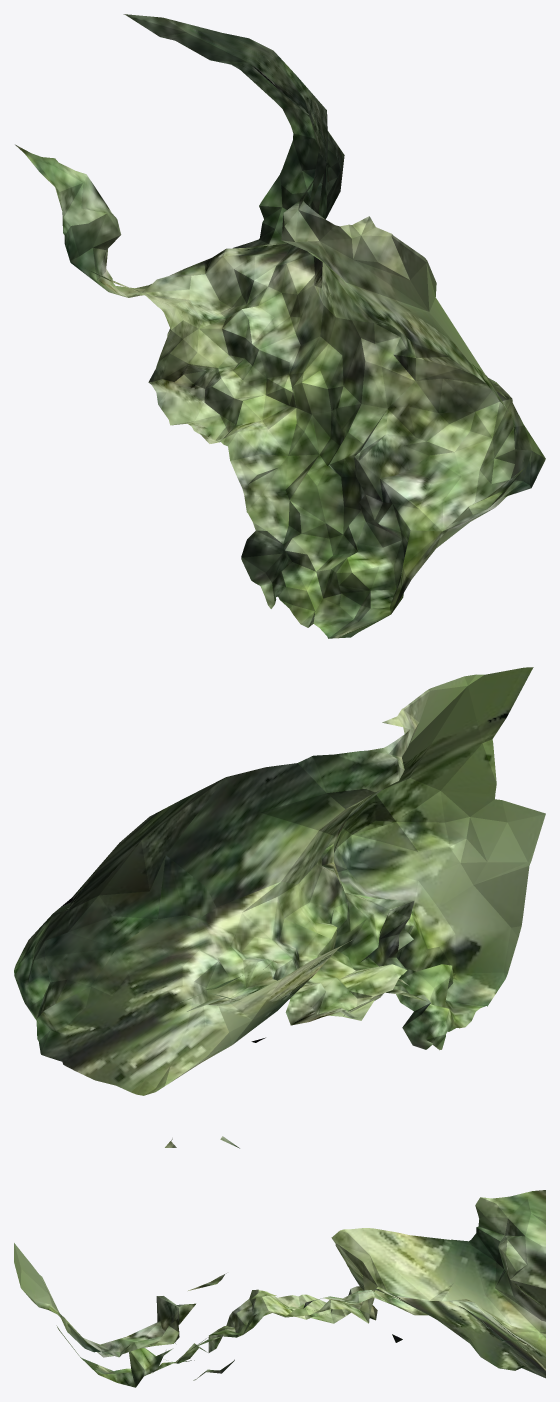
3 renders of one model, top to bottom at view 1: azimuth 30°, elevation 25°; view 2: azimuth 150°, elevation 25°; view 3: azimuth 270°, elevation 25°, orthographic. The views are drawn at different scales.
Bounding box in the file's own units: 11.11 × 14.15 × 26.11.
Materials: 2 (2 with a texture image).
